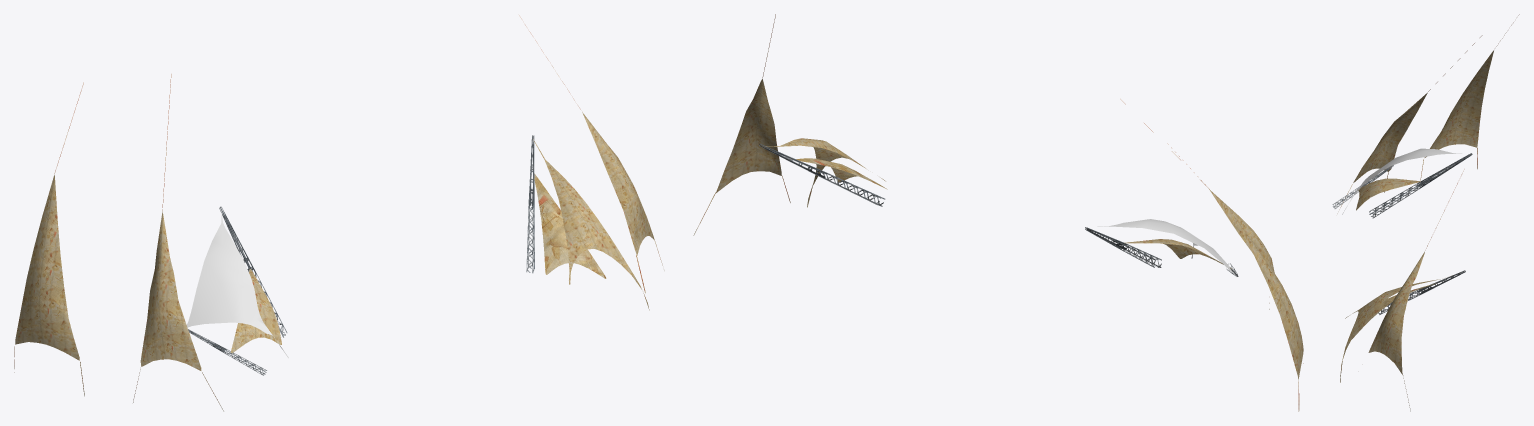
Rendered from MainSailsbothsides.fbx.
The picture shows the model from 3 angles, left to right: view 1: azimuth 30°, elevation 25°; view 2: azimuth 150°, elevation 25°; view 3: azimuth 270°, elevation 25°; orthographic projection. The views are drawn at different scales.
Parts seen in each view (by area): view 1: Plane.006, Plane.012, Plane.007, Plane.010, Plane.008, Plane.009, Plane.011, CommArray.002; view 2: Plane.008, Plane.006, Plane.012, Plane.010, Plane.007, CommArray.002, CommArray.003, Plane.011, Plane.009; view 3: Plane.006, Plane.008, Plane.007, Plane.011, Plane.010, CommArray.003, Plane.012, CommArray.002, Plane.009, CommArray.004.
Boxes of the visible parts, box(x1,y1,x2,y2) form: Plane.006: box(14, 82, 84, 396); Plane.012: box(186, 212, 288, 358); Plane.007: box(133, 74, 223, 411); Plane.010: box(533, 139, 649, 310); Plane.008: box(519, 15, 664, 293); Plane.009: box(534, 173, 606, 278); Plane.011: box(230, 269, 281, 353); CommArray.002: box(526, 135, 534, 273); Plane.008: box(693, 14, 790, 235); Plane.006: box(1167, 143, 1303, 411); Plane.012: box(1097, 219, 1236, 276); Plane.010: box(766, 138, 885, 207); Plane.007: box(1120, 99, 1274, 309); CommArray.002: box(759, 144, 885, 206); CommArray.003: box(1085, 227, 1161, 267); Plane.011: box(1124, 239, 1231, 268); Plane.009: box(796, 158, 887, 189); Plane.006: box(1420, 14, 1519, 180); Plane.008: box(1368, 169, 1464, 411); Plane.007: box(1337, 35, 1482, 213); Plane.011: box(1356, 178, 1420, 210); Plane.010: box(1340, 279, 1440, 382); CommArray.003: box(1369, 153, 1472, 218); Plane.012: box(1342, 148, 1461, 214); CommArray.002: box(1378, 270, 1465, 314); Plane.009: box(1352, 282, 1439, 338); CommArray.004: box(1332, 165, 1393, 208).
Bounding box in the file's own units: 2366 × 1011 × 813.
